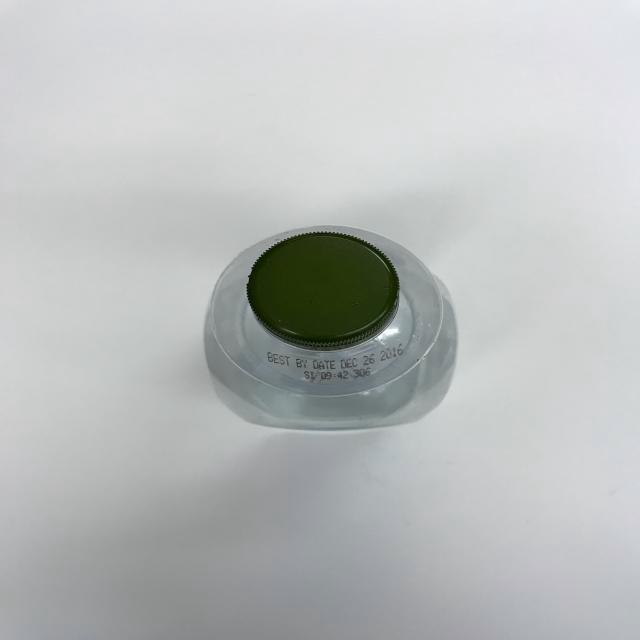plastic: (200, 226, 459, 434)
